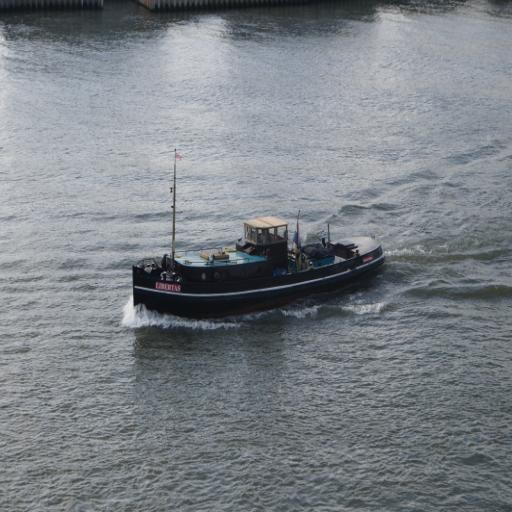tugboat: (130, 210, 388, 328)
